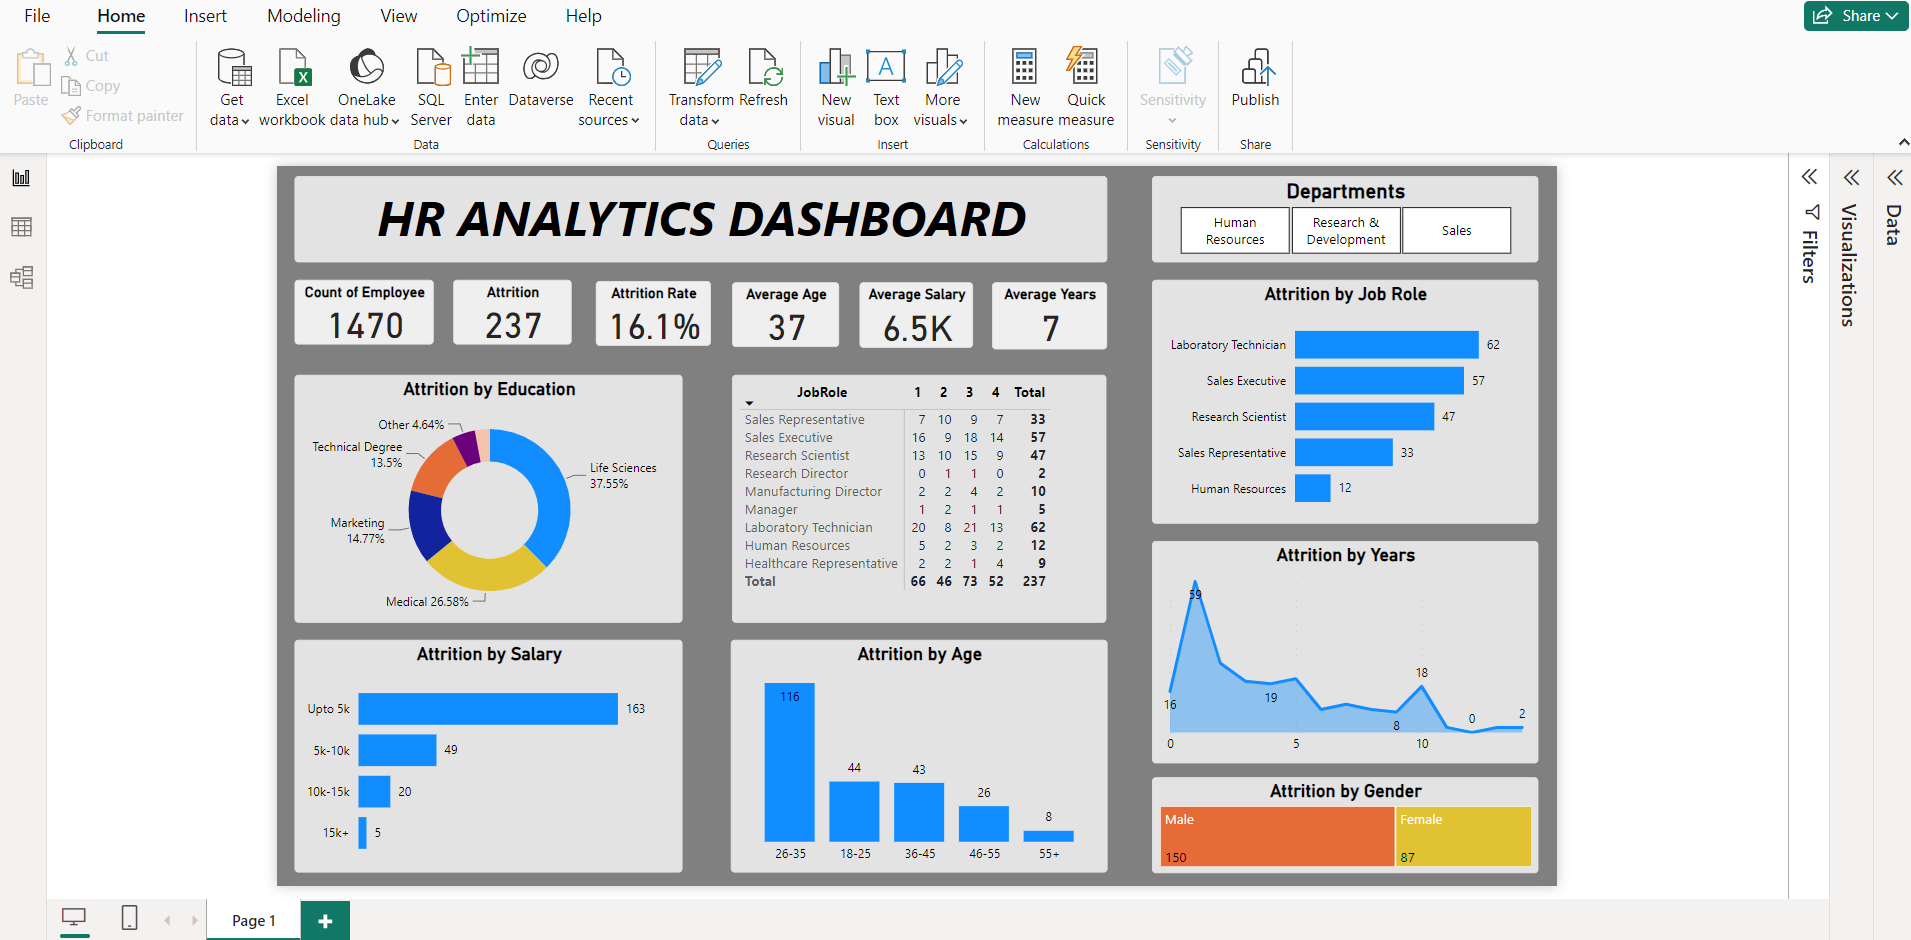

Layout of this report page (visuals, bound fields, positions):
{"tool":"powerbi","page":{"name":"Page 1","canvas":[1280,720],"ordinal":0},"visuals":[{"type":"card","title":"Count of Employee","fields":{"Values":["CountNonNull(HR_Analytics.EmpID)"]},"box":[17,113.8,139.4,64.9],"z":0},{"type":"card","title":"Attrition","fields":{"Values":["Sum(HR_Analytics.AttritionCount)"]},"box":[176.6,113.8,118.1,64.9],"z":1000},{"type":"card","title":"Attrition Rate","fields":{"Values":["HR_Analytics.AttritionRate"]},"box":[319.1,114.9,114.9,64.9],"z":2000},{"type":"card","title":"Average Age ","fields":{"Values":["Avg(HR_Analytics.Age)"]},"box":[455.3,116,107.4,64.9],"z":3000},{"type":"card","title":"Average Salary","fields":{"Values":["Avg(HR_Analytics.MonthlyIncome)"]},"box":[583,116,113.8,66],"z":4000},{"type":"card","title":"Average Years ","fields":{"Values":["Avg(HR_Analytics.YearsAtCompany)"]},"box":[714.9,116,114.9,67],"z":5000},{"type":"donutChart","title":"Attrition by Education","fields":{"Category":["HR_Analytics.EducationField"],"Y":["Sum(HR_Analytics.AttritionCount)"]},"box":[17,208.5,388.3,247.9],"z":6000},{"type":"columnChart","title":"Attrition by Age","fields":{"Category":["HR_Analytics.AgeGroup"],"Y":["Sum(HR_Analytics.AttritionCount)"]},"box":[453.2,473.4,376.6,233],"z":7000},{"type":"pivotTable","fields":{"Rows":["HR_Analytics.JobRole"],"Columns":["HR_Analytics.JobSatisfaction"],"Values":["Sum(HR_Analytics.AttritionCount)"]},"box":[455.3,208.5,374.5,247.9],"z":8000},{"type":"barChart","title":"Attrition by Salary","fields":{"Category":["HR_Analytics.SalarySlab"],"Y":["Sum(HR_Analytics.AttritionCount)"]},"box":[17,473.4,388.3,233],"z":9000},{"type":"barChart","title":"Attrition by Job Role","fields":{"Category":["HR_Analytics.JobRole"],"Y":["Sum(HR_Analytics.AttritionCount)"]},"box":[875.5,113.8,386.2,243.6],"z":10000},{"type":"areaChart","title":"Attrition by Years","fields":{"Category":["HR_Analytics.YearsAtCompany"],"Y":["Sum(HR_Analytics.AttritionCount)"]},"box":[875,375,386.2,222.5],"z":11000},{"type":"treemap","title":"Attrition by Gender","fields":{"Group":["HR_Analytics.Gender"],"Values":["Sum(HR_Analytics.AttritionCount)"]},"box":[875.5,610.6,386.2,95.7],"z":12000},{"type":"slicer","title":"Departments","fields":{"Values":["HR_Analytics.Department"]},"box":[875.5,9.6,386.2,86.2],"z":13000},{"type":"textbox","box":[17,9.6,812.8,86.2],"z":14000}]}

Visuals, with their boxes on the page's 1280x720 design canvas (x1, y1, x2, y2). These are canvas units, not pixel positions in the 1911x940 screenshot, which may show the page scaled, cropped or inside an application window:
"Count of Employee" card: (17,114,156,179)
"Attrition" card: (177,114,295,179)
"Attrition Rate" card: (319,115,434,180)
"Average Age " card: (455,116,563,181)
"Average Salary" card: (583,116,697,182)
"Average Years " card: (715,116,830,183)
"Attrition by Education" donutChart: (17,208,405,456)
"Attrition by Age" columnChart: (453,473,830,706)
pivotTable - HR_Analytics.JobRole x HR_Analytics.JobSatisfaction: (455,208,830,456)
"Attrition by Salary" barChart: (17,473,405,706)
"Attrition by Job Role" barChart: (876,114,1262,357)
"Attrition by Years" areaChart: (875,375,1261,598)
"Attrition by Gender" treemap: (876,611,1262,706)
"Departments" slicer: (876,10,1262,96)
textbox: (17,10,830,96)
